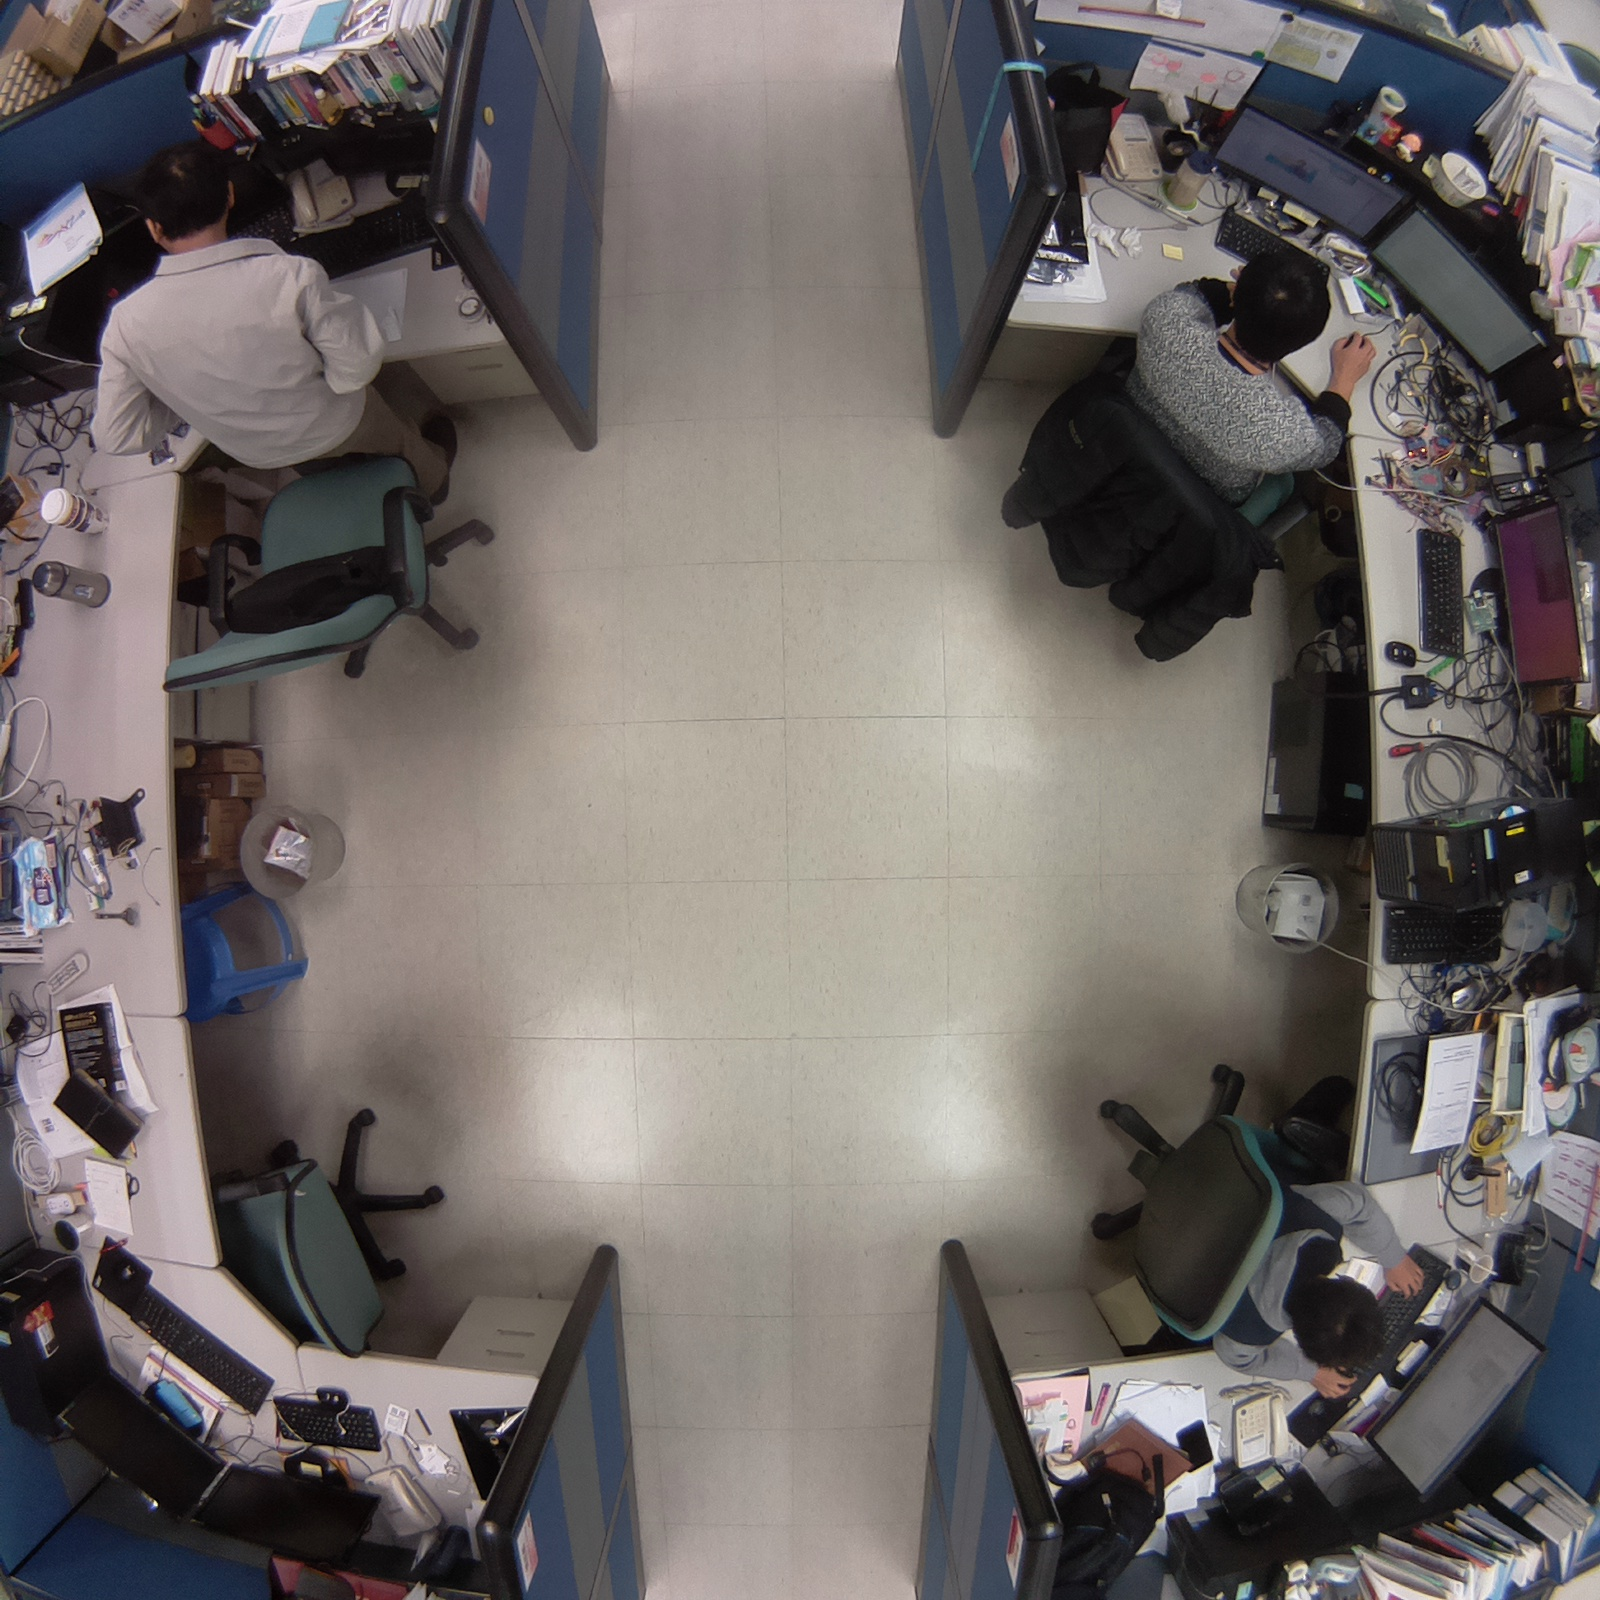chair: (147, 445, 514, 706), (204, 1073, 460, 1368)
head: (1225, 240, 1338, 361), (127, 138, 246, 244), (1295, 1270, 1395, 1378)
sitting: (986, 234, 1384, 673), (1073, 1037, 1428, 1411)
standing: (75, 143, 465, 514)
